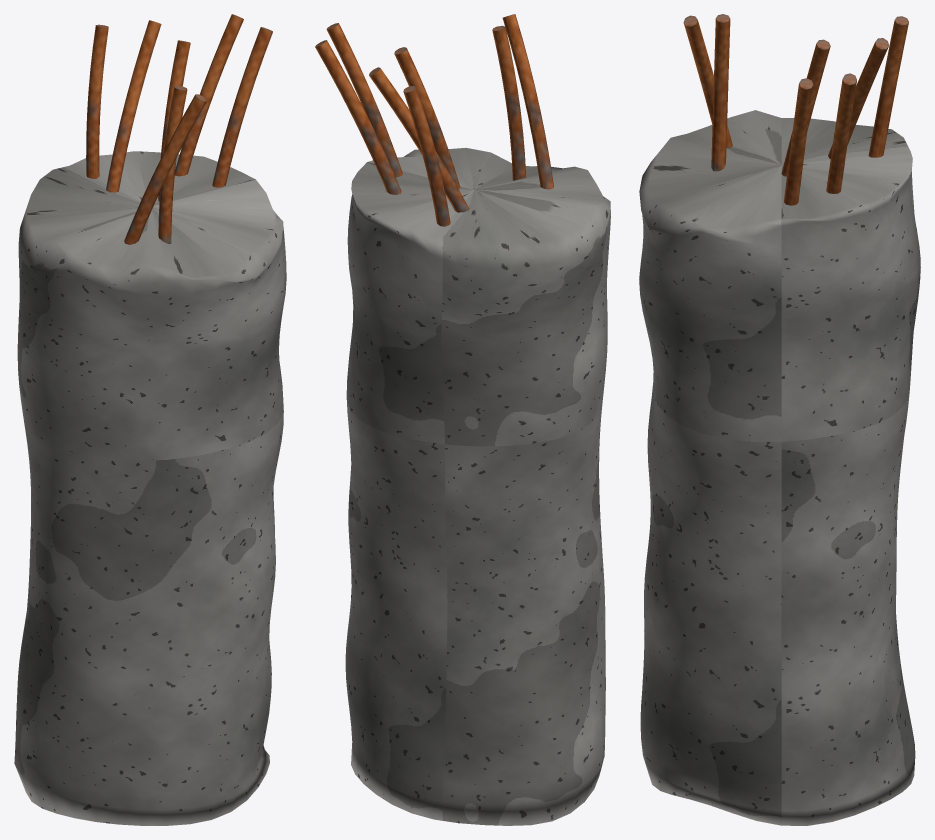
File: rebar_pillar.gltf
3 renders of one model, left to right at view 1: azimuth 30°, elevation 25°; view 2: azimuth 150°, elevation 25°; view 3: azimuth 270°, elevation 25°, orthographic. The views are drawn at different scales.
Parts seen in each view (by area): view 1: rebar_pillar; view 2: rebar_pillar; view 3: rebar_pillar.
Boxes of the visible parts, x1,y1,x2,y2 form: rebar_pillar: (14, 14, 286, 825); rebar_pillar: (315, 14, 610, 825); rebar_pillar: (639, 14, 920, 825).
Size of the model in its own units: 1.06 by 2.92 by 0.9632.
2 materials, 2 textured.
